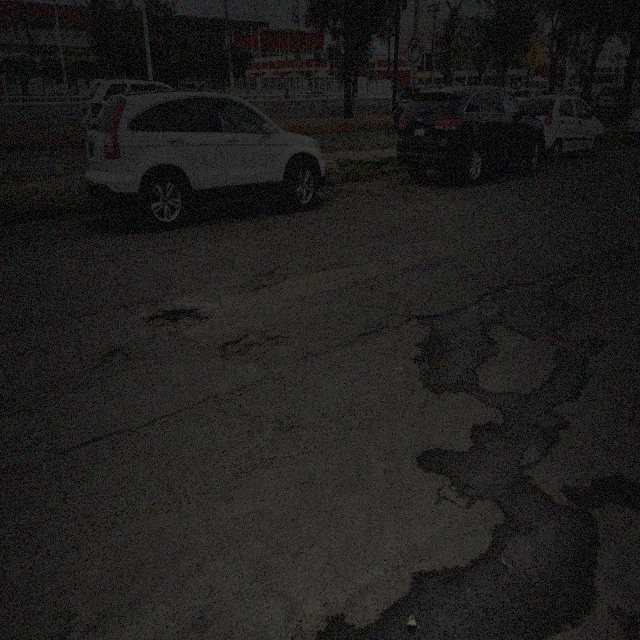pothole: (218, 326, 290, 373), (145, 302, 206, 342), (101, 343, 131, 372), (519, 442, 542, 470)
